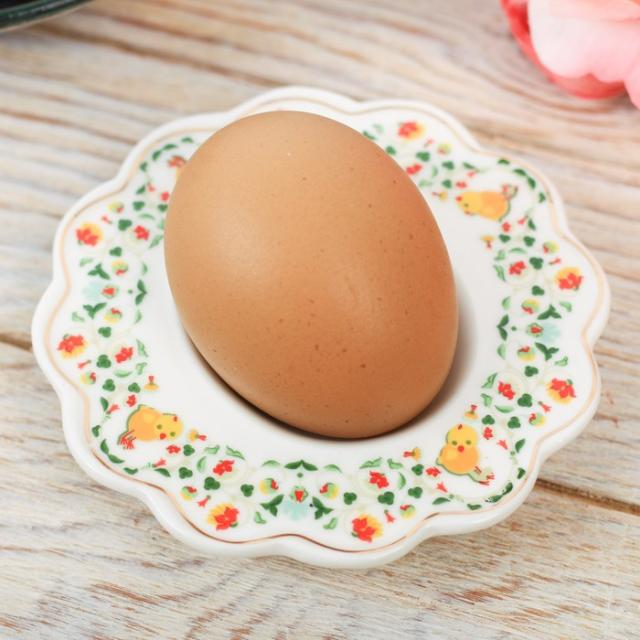egg: (160, 107, 462, 444)
